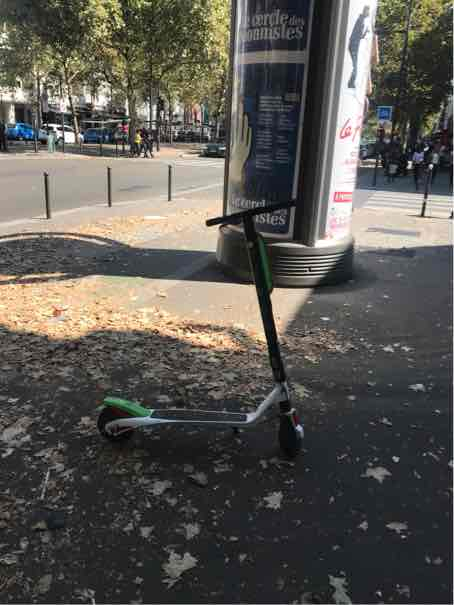scooter: (91, 200, 313, 458)
